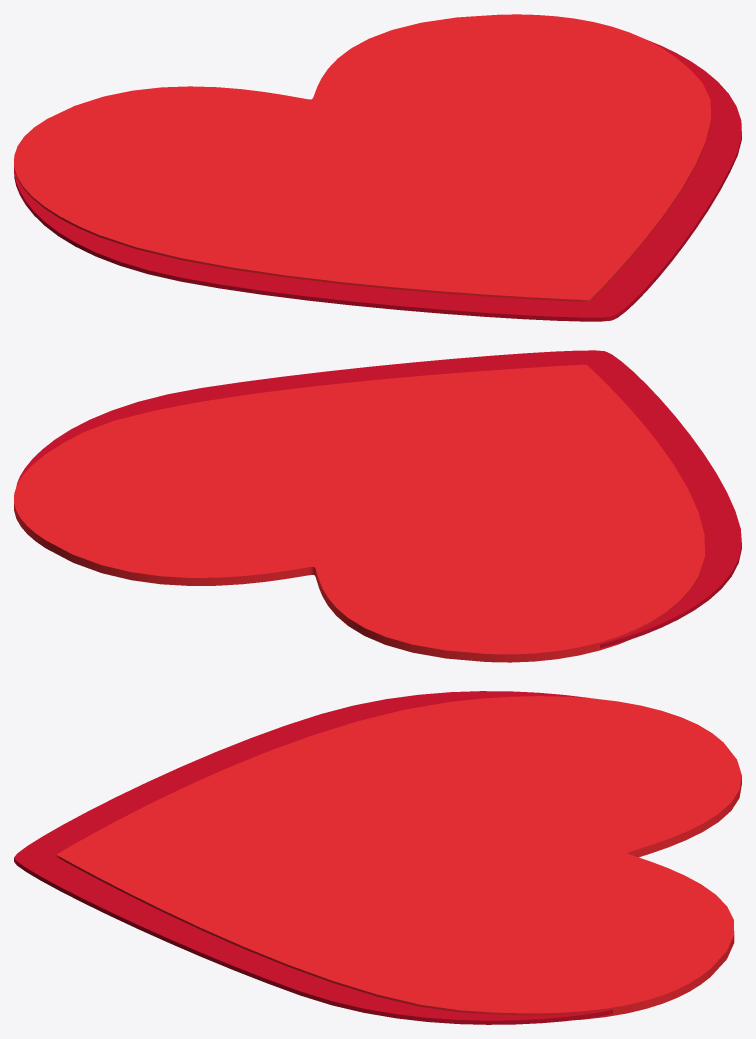
Rendered from emoji_u2665.glb.
3 views of the same model, one above another, from view 1: azimuth 30°, elevation 25°; view 2: azimuth 150°, elevation 25°; view 3: azimuth 270°, elevation 25° (orthographic). The views are drawn at different scales.
Parts seen in each view (by area): view 1: emoji_u2665; view 2: emoji_u2665; view 3: emoji_u2665.
Boxes of the visible parts, left/top/right/bottom form: emoji_u2665: left=14, top=14, right=741, bottom=321; emoji_u2665: left=14, top=350, right=741, bottom=662; emoji_u2665: left=14, top=691, right=741, bottom=1024.
Bounding box in the file's own units: 0.0339 × 0.0004 × 0.0316.
